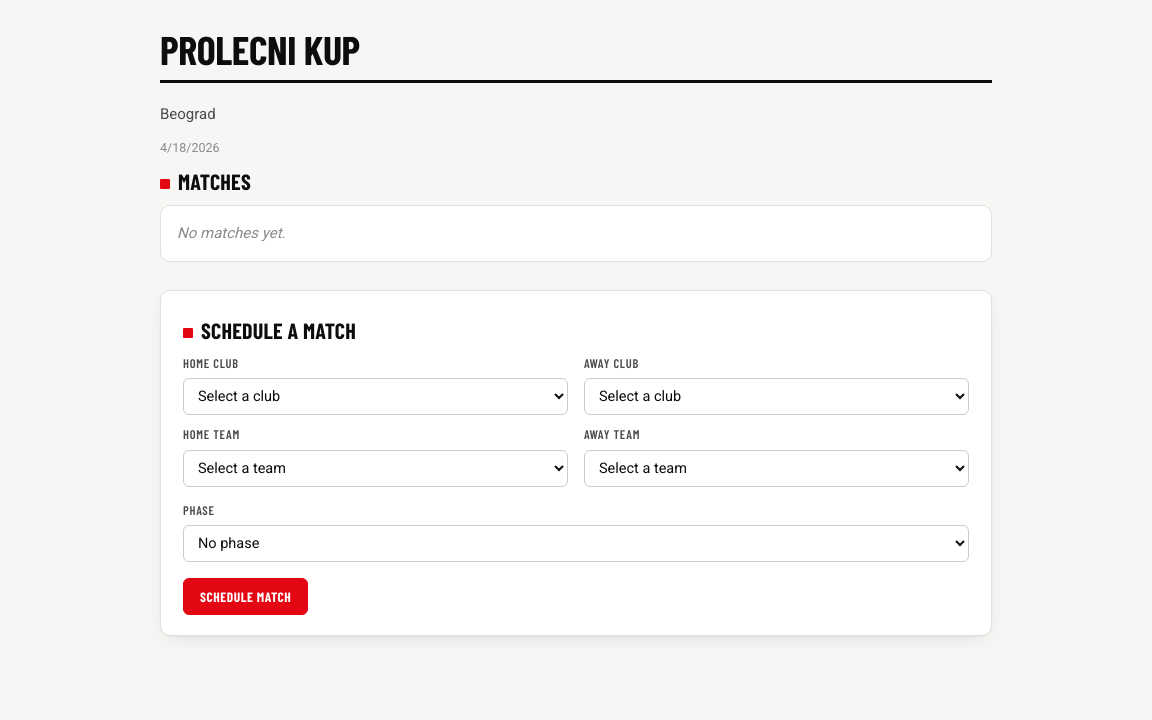
TournamentDetailPage — schedule a match › schedules a match between a selected home and away team
Check: the heading "Prolecni Kup" is shown, box left=160, top=28, right=992, bottom=83
Check: the list item "No matches yet." is shown, box left=177, top=224, right=286, bottom=242
Select "KK Primer" in the dropdown labelled "Home club" at [376, 397], box left=183, top=378, right=568, bottom=415
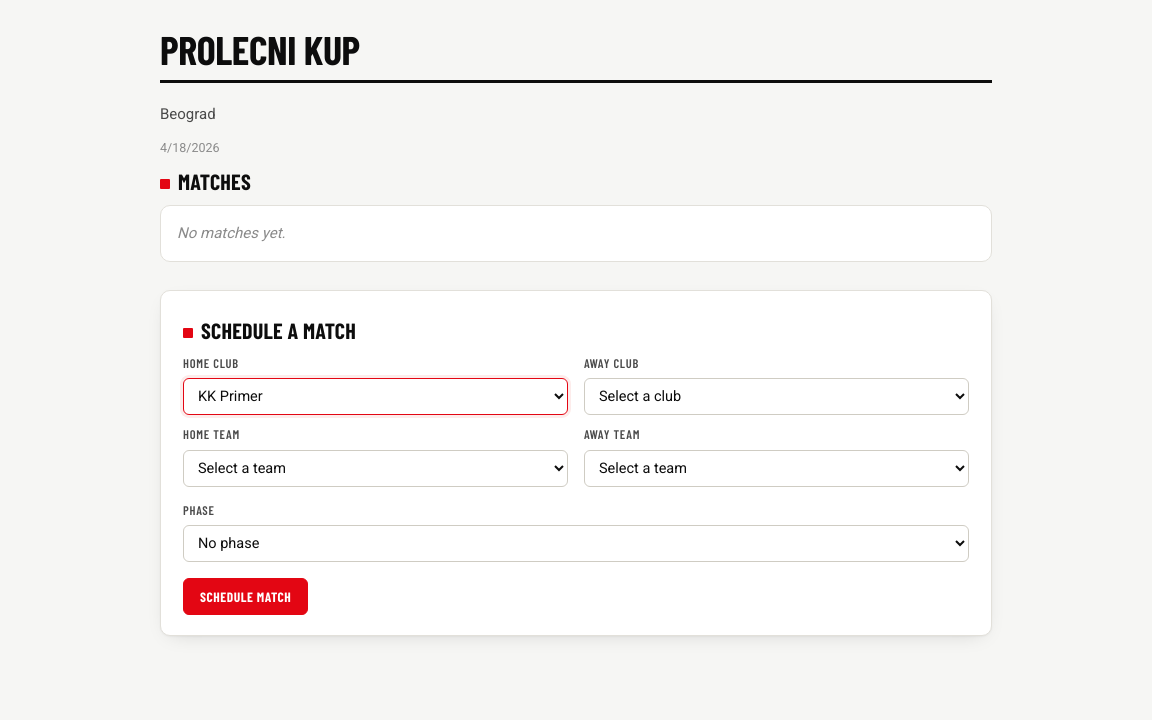
Select "Home Team" in the dropdown labelled "Home team" at [376, 468], box left=183, top=450, right=568, bottom=487
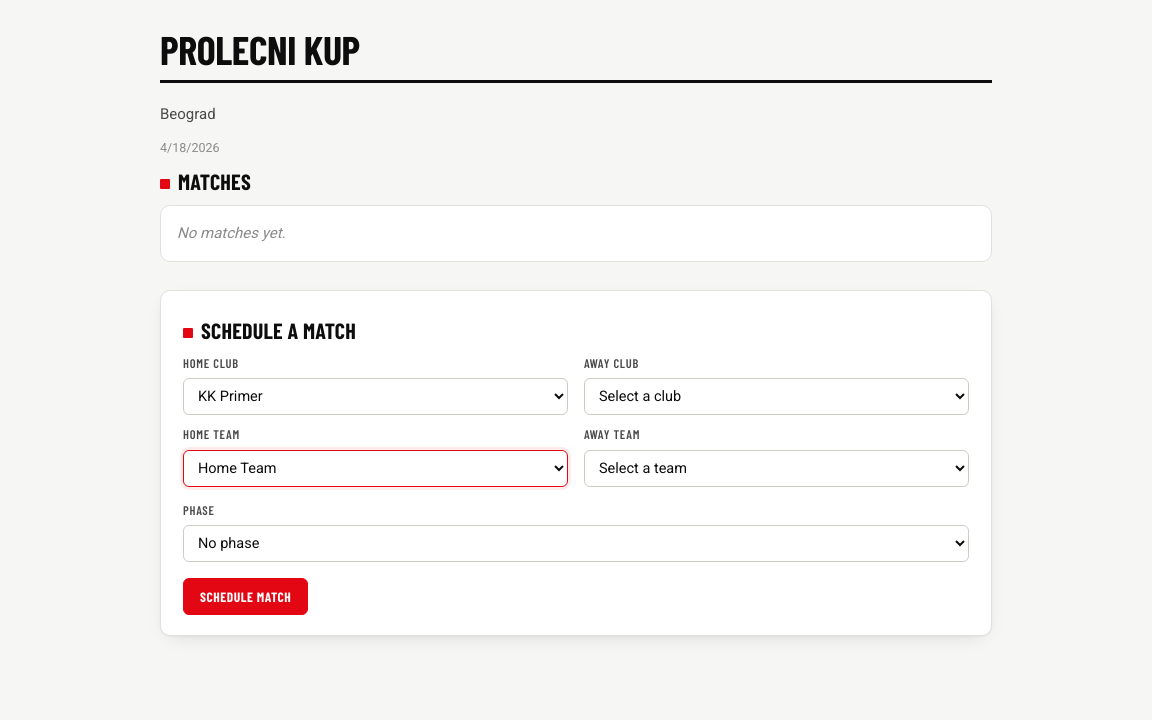
Select "KK Primer" in the dropdown labelled "Away club" at [776, 397], box left=584, top=378, right=969, bottom=415
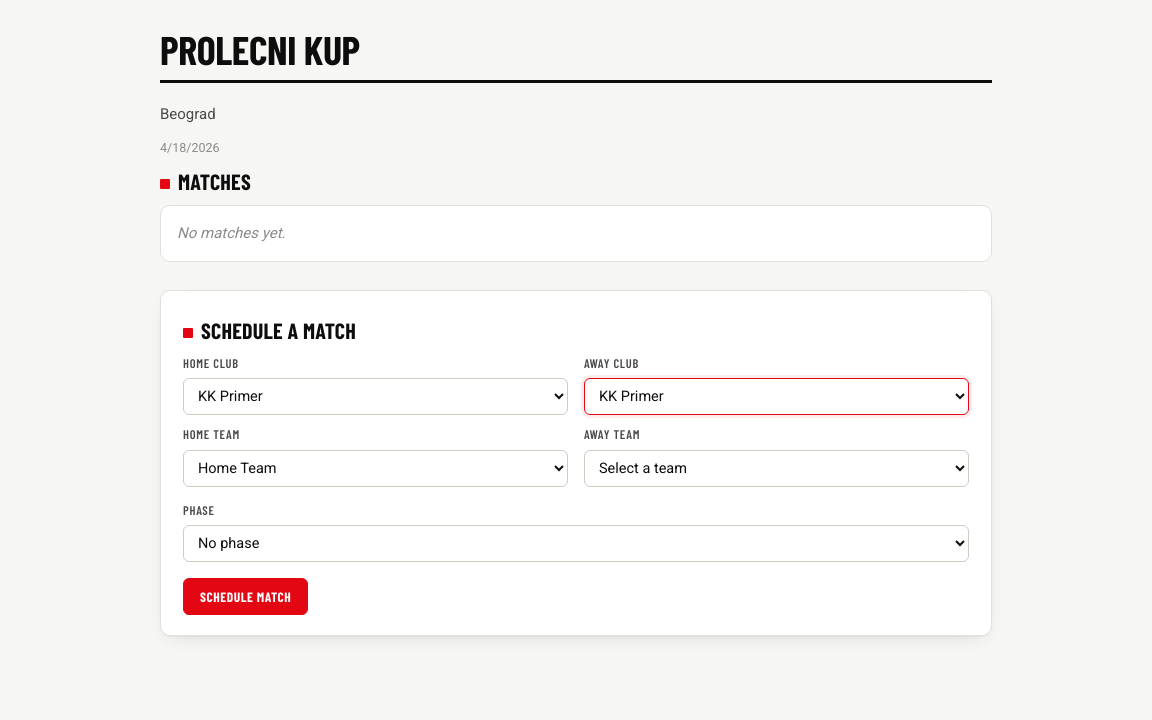
Select "Away Team" in the dropdown labelled "Away team" at [776, 468], box left=584, top=450, right=969, bottom=487
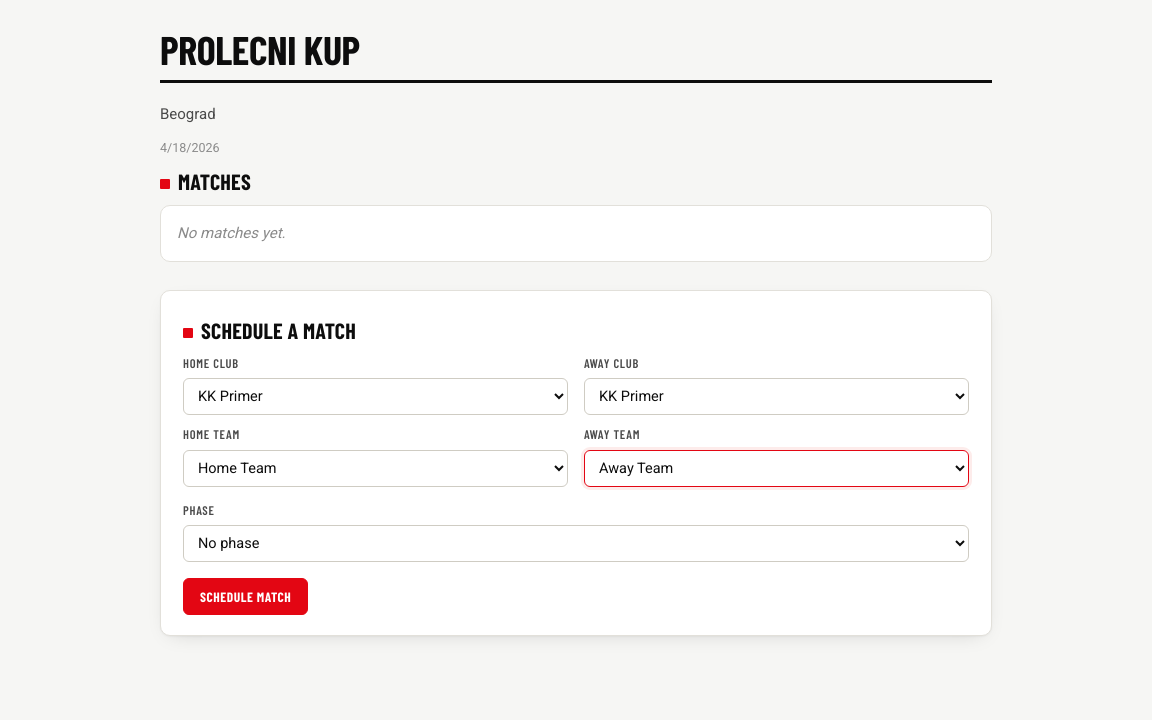
Click the button "Schedule match".
click(246, 597)  # box left=183, top=578, right=308, bottom=615
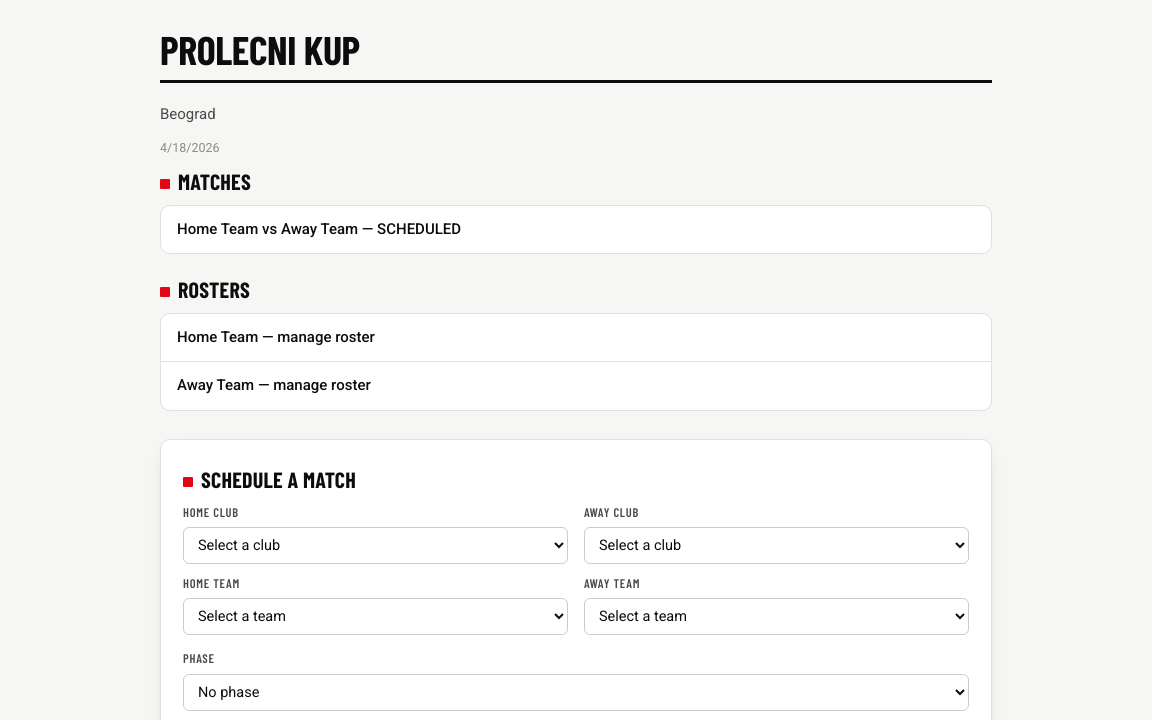
Check: the link "Home Team vs Away Team — SCHEDULED" is shown, box left=177, top=220, right=461, bottom=238
Check: the link "Home Team — manage roster" is shown, box left=177, top=328, right=375, bottom=346
Check: the link "Away Team — manage roster" is shown, box left=177, top=376, right=371, bottom=394
